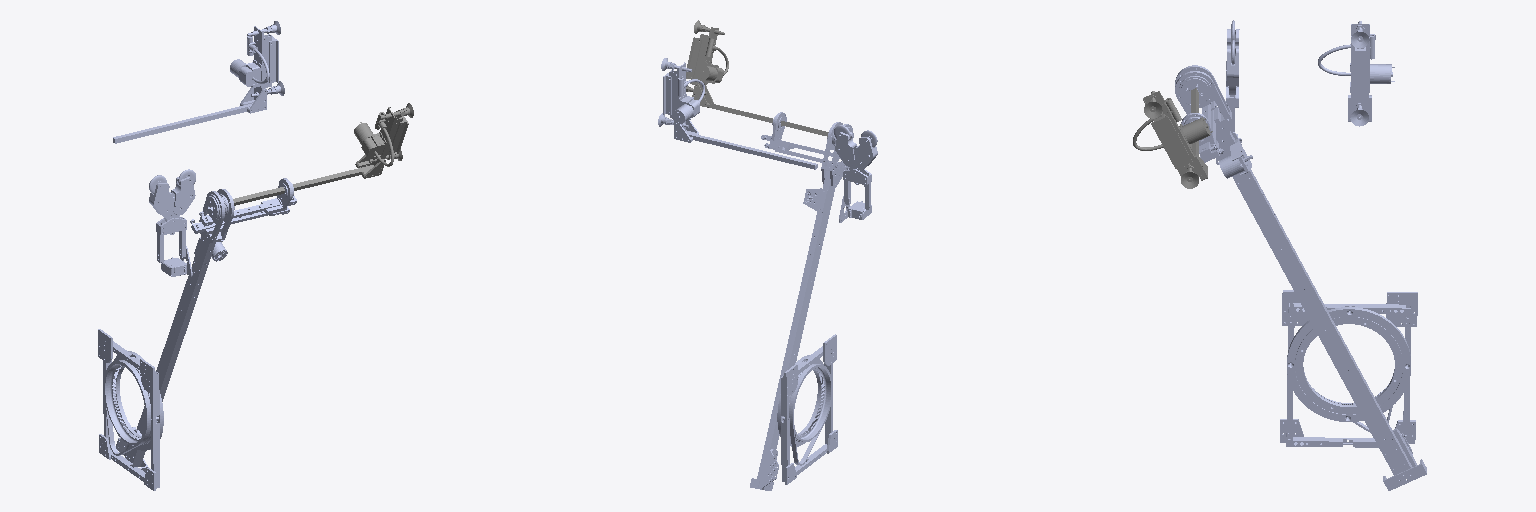
robot.urdf — a_r2:
<?xml version="1.0" ?>
<!-- =================================================================================== -->
<!-- |    This document was autogenerated by xacro from /home/a/ws_nhk/src/a_r2_description_v2/a_r2_description_v2/urdf/a_r2.xacro | -->
<!-- |    EDITING THIS FILE BY HAND IS NOT RECOMMENDED                                 | -->
<!-- =================================================================================== -->
<robot name="a_r2">
  <material name="silver_default">
    <color rgba="0.700 0.700 0.700 1.000"/>
  </material>
  <material name="opaque202209238">
    <color rgba="0.792156862745098 0.8196078431372549 0.9333333333333333 1.0"/>
  </material>
  <material name="steel_satin">
    <color rgba="0.6274509803921569 0.6274509803921569 0.6274509803921569 1.0"/>
  </material>
  <transmission name="Slider 1_tran">
    <type>transmission_interface/SimpleTransmission</type>
    <joint name="Slider 1">
      <hardwareInterface>hardware_interface/EffortJointInterface</hardwareInterface>
    </joint>
    <actuator name="Slider 1_actr">
      <hardwareInterface>hardware_interface/EffortJointInterface</hardwareInterface>
      <mechanicalReduction>1</mechanicalReduction>
    </actuator>
  </transmission>
  <transmission name="Revolute 3_tran">
    <type>transmission_interface/SimpleTransmission</type>
    <joint name="Revolute 3">
      <hardwareInterface>hardware_interface/EffortJointInterface</hardwareInterface>
    </joint>
    <actuator name="Revolute 3_actr">
      <hardwareInterface>hardware_interface/EffortJointInterface</hardwareInterface>
      <mechanicalReduction>1</mechanicalReduction>
    </actuator>
  </transmission>
  <transmission name="Revolute 2_tran">
    <type>transmission_interface/SimpleTransmission</type>
    <joint name="Revolute 2">
      <hardwareInterface>hardware_interface/EffortJointInterface</hardwareInterface>
    </joint>
    <actuator name="Revolute 2_actr">
      <hardwareInterface>hardware_interface/EffortJointInterface</hardwareInterface>
      <mechanicalReduction>1</mechanicalReduction>
    </actuator>
  </transmission>
  <transmission name="Slider 4_tran">
    <type>transmission_interface/SimpleTransmission</type>
    <joint name="Slider 4">
      <hardwareInterface>hardware_interface/EffortJointInterface</hardwareInterface>
    </joint>
    <actuator name="Slider 4_actr">
      <hardwareInterface>hardware_interface/EffortJointInterface</hardwareInterface>
      <mechanicalReduction>1</mechanicalReduction>
    </actuator>
  </transmission>
  <transmission name="Revolute 5_tran">
    <type>transmission_interface/SimpleTransmission</type>
    <joint name="Revolute 5">
      <hardwareInterface>hardware_interface/EffortJointInterface</hardwareInterface>
    </joint>
    <actuator name="Revolute 5_actr">
      <hardwareInterface>hardware_interface/EffortJointInterface</hardwareInterface>
      <mechanicalReduction>1</mechanicalReduction>
    </actuator>
  </transmission>
  <transmission name="Slider 6_tran">
    <type>transmission_interface/SimpleTransmission</type>
    <joint name="Slider 6">
      <hardwareInterface>hardware_interface/EffortJointInterface</hardwareInterface>
    </joint>
    <actuator name="Slider 6_actr">
      <hardwareInterface>hardware_interface/EffortJointInterface</hardwareInterface>
      <mechanicalReduction>1</mechanicalReduction>
    </actuator>
  </transmission>
  <link name="base_link">
    <inertial>
      <origin rpy="0 0 0" xyz="-0.3744284103017199 -1.7574137106272005 0.2019503593867328"/>
      <mass value="5.960481710804654"/>
      <inertia ixx="0.265693" ixy="-0.000161" ixz="-0.003536" iyy="0.237847" iyz="0.001802" izz="0.034321"/>
    </inertial>
    <visual>
      <origin rpy="0 0 0" xyz="0 0 0"/>
      <geometry>
        <mesh filename="package://a_r2_description/meshes/base_link.stl" scale="0.001 0.001 0.001"/>
      </geometry>
      <material name="opaque202209238"/>
    </visual>
    <collision>
      <origin rpy="0 0 0" xyz="0 0 0"/>
      <geometry>
        <mesh filename="package://a_r2_description/meshes/base_link.stl" scale="0.001 0.001 0.001"/>
      </geometry>
    </collision>
  </link>
  <link name="link1_1">
    <inertial>
      <origin rpy="0 0 0" xyz="0.015074218409720397 0.10311809894892843 -0.06832311086031623"/>
      <mass value="2.393549693306081"/>
      <inertia ixx="0.024938" ixy="1.6e-05" ixz="7e-06" iyy="0.014019" iyz="9.5e-05" izz="0.011307"/>
    </inertial>
    <visual>
      <origin rpy="0 0 0" xyz="0.351158 1.864523 -0.253205"/>
      <geometry>
        <mesh filename="package://a_r2_description/meshes/link1_1.stl" scale="0.001 0.001 0.001"/>
      </geometry>
      <material name="opaque202209238"/>
    </visual>
    <collision>
      <origin rpy="0 0 0" xyz="0.351158 1.864523 -0.253205"/>
      <geometry>
        <mesh filename="package://a_r2_description/meshes/link1_1.stl" scale="0.001 0.001 0.001"/>
      </geometry>
    </collision>
  </link>
  <link name="link2_1">
    <inertial>
      <origin rpy="0 0 0" xyz="0.006692639036245174 0.005079864181537719 0.08411727748048892"/>
      <mass value="2.9811225398272745"/>
      <inertia ixx="0.103921" ixy="-0.000153" ixz="-0.001328" iyy="0.10257" iyz="-0.001244" izz="0.002847"/>
    </inertial>
    <visual>
      <origin rpy="0 0 0" xyz="0.322658 1.761961 -0.188201"/>
      <geometry>
        <mesh filename="package://a_r2_description/meshes/link2_1.stl" scale="0.001 0.001 0.001"/>
      </geometry>
      <material name="opaque202209238"/>
    </visual>
    <collision>
      <origin rpy="0 0 0" xyz="0.322658 1.761961 -0.188201"/>
      <geometry>
        <mesh filename="package://a_r2_description/meshes/link2_1.stl" scale="0.001 0.001 0.001"/>
      </geometry>
    </collision>
  </link>
  <link name="link3_1">
    <inertial>
      <origin rpy="0 0 0" xyz="-0.03044708953587144 0.03471872560354616 0.07204933022051674"/>
      <mass value="1.1261936705374573"/>
      <inertia ixx="0.005205" ixy="2.8e-05" ixz="6.6e-05" iyy="0.00445" iyz="-0.002195" izz="0.001958"/>
    </inertial>
    <visual>
      <origin rpy="0 0 0" xyz="0.322658 1.752946 -0.628108"/>
      <geometry>
        <mesh filename="package://a_r2_description/meshes/link3_1.stl" scale="0.001 0.001 0.001"/>
      </geometry>
      <material name="opaque202209238"/>
    </visual>
    <collision>
      <origin rpy="0 0 0" xyz="0.322658 1.752946 -0.628108"/>
      <geometry>
        <mesh filename="package://a_r2_description/meshes/link3_1.stl" scale="0.001 0.001 0.001"/>
      </geometry>
    </collision>
  </link>
  <link name="link4_1">
    <inertial>
      <origin rpy="0 0 0" xyz="0.04143914509452418 -0.020756739429556026 -0.14805766233861156"/>
      <mass value="3.577862597500207"/>
      <inertia ixx="0.282419" ixy="-3.8e-05" ixz="-0.018138" iyy="0.289931" iyz="-0.001052" izz="0.008652"/>
    </inertial>
    <visual>
      <origin rpy="0 0 0" xyz="0.302158 1.733621 -0.627994"/>
      <geometry>
        <mesh filename="package://a_r2_description/meshes/link4_1.stl" scale="0.001 0.001 0.001"/>
      </geometry>
      <material name="opaque202209238"/>
    </visual>
    <collision>
      <origin rpy="0 0 0" xyz="0.302158 1.733621 -0.627994"/>
      <geometry>
        <mesh filename="package://a_r2_description/meshes/link4_1.stl" scale="0.001 0.001 0.001"/>
      </geometry>
    </collision>
  </link>
  <link name="link5_1">
    <inertial>
      <origin rpy="0 0 0" xyz="0.005000061798537847 -3.892921232040436e-07 2.425906654446308e-07"/>
      <mass value="0.007850000000000103"/>
      <inertia ixx="0.0" ixy="0.0" ixz="-0.0" iyy="0.0" iyz="0.0" izz="0.0"/>
    </inertial>
    <visual>
      <origin rpy="0 0 0" xyz="0.259358 1.753755 -0.758115"/>
      <geometry>
        <mesh filename="package://a_r2_description/meshes/link5_1.stl" scale="0.001 0.001 0.001"/>
      </geometry>
      <material name="steel_satin"/>
    </visual>
    <collision>
      <origin rpy="0 0 0" xyz="0.259358 1.753755 -0.758115"/>
      <geometry>
        <mesh filename="package://a_r2_description/meshes/link5_1.stl" scale="0.001 0.001 0.001"/>
      </geometry>
    </collision>
  </link>
  <link name="link6_1">
    <inertial>
      <origin rpy="0 0 0" xyz="0.25011901634178396 0.007497362969561161 0.05854725918180348"/>
      <mass value="1.4233723866284878"/>
      <inertia ixx="0.003095" ixy="-0.000188" ixz="-0.002739" iyy="0.01141" iyz="-0.000124" izz="0.009048"/>
    </inertial>
    <visual>
      <origin rpy="0 0 0" xyz="0.249358 1.753755 -0.758115"/>
      <geometry>
        <mesh filename="package://a_r2_description/meshes/link6_1.stl" scale="0.001 0.001 0.001"/>
      </geometry>
      <material name="opaque202209238"/>
    </visual>
    <collision>
      <origin rpy="0 0 0" xyz="0.249358 1.753755 -0.758115"/>
      <geometry>
        <mesh filename="package://a_r2_description/meshes/link6_1.stl" scale="0.001 0.001 0.001"/>
      </geometry>
    </collision>
  </link>
  <joint name="Slider 1" type="prismatic">
    <origin rpy="0 0 0" xyz="-0.351158 -1.864523 0.253205"/>
    <parent link="base_link"/>
    <child link="link1_1"/>
    <axis xyz="-0.0 0.014599 0.999893"/>
    <limit effort="100" lower="0.0" upper="0.22" velocity="100"/>
  </joint>
  <joint name="Revolute 2" type="continuous">
    <origin rpy="0 0 0" xyz="0.0285 0.102562 -0.065004"/>
    <parent link="link1_1"/>
    <child link="link2_1"/>
    <axis xyz="1.0 0.0 0.0"/>
  </joint>
  <joint name="Revolute 3" type="revolute">
    <origin rpy="0 0 0" xyz="0.0 0.009015 0.439907"/>
    <parent link="link2_1"/>
    <child link="link3_1"/>
    <axis xyz="1.0 0.0 0.0"/>
    <limit effort="100" lower="0.0" upper="1.570796" velocity="100"/>
  </joint>
  <joint name="Slider 4" type="prismatic">
    <origin rpy="0 0 0" xyz="0.0205 0.02834 0.439793"/>
    <parent link="link2_1"/>
    <child link="link4_1"/>
    <axis xyz="-0.0 0.005889 0.999983"/>
    <limit effort="100" lower="-0.6" upper="0.6" velocity="100"/>
  </joint>
  <joint name="Revolute 5" type="continuous">
    <origin rpy="0 0 0" xyz="0.0428 -0.020134 0.130121"/>
    <parent link="link4_1"/>
    <child link="link5_1"/>
    <axis xyz="1.0 0.0 0.0"/>
  </joint>
  <joint name="Slider 6" type="prismatic">
    <origin rpy="0 0 0" xyz="0.01 0.0 0.0"/>
    <parent link="link5_1"/>
    <child link="link6_1"/>
    <axis xyz="1.0 0.0 0.0"/>
    <limit effort="100" lower="-0.1" upper="0.1" velocity="100"/>
  </joint>
</robot>

--- Render facts (derived) ---
3 views of the same robot in one strip: view 1: azimuth 30°, elevation 25°; view 2: azimuth 150°, elevation 25°; view 3: azimuth 270°, elevation 25° (orthographic).
Robot: a_r2 — 7 links, 6 joints (1 revolute, 2 continuous, 3 prismatic); root link base_link; default pose: every joint at zero.
Links seen in each view (by area): view 1: link4_1, link1_1, link6_1, link5_1, link3_1; view 2: link4_1, link1_1, link6_1, link3_1, link5_1; view 3: link4_1, link1_1, link5_1, link6_1, link3_1.
Boxes of the visible links, x1,y1,x2,y2 form: link4_1: (116, 178, 296, 472); link1_1: (98, 329, 163, 490); link6_1: (113, 21, 284, 143); link5_1: (233, 103, 413, 205); link3_1: (149, 169, 195, 276); link4_1: (750, 112, 853, 490); link1_1: (777, 334, 837, 484); link6_1: (658, 58, 817, 169); link3_1: (834, 125, 877, 222); link5_1: (686, 20, 828, 136); link4_1: (1175, 65, 1426, 490); link1_1: (1280, 290, 1417, 447); link5_1: (1133, 88, 1212, 188); link6_1: (1318, 21, 1394, 126); link3_1: (1216, 20, 1241, 164).
Size in the robot's own frame: 0.529 by 0.4726 by 0.9406 metres.
Meshes: 7 distinct files referenced, 5 mesh visuals loaded (5 binary STL); not drawn: 2 (reference not matched to a file when rendering).
